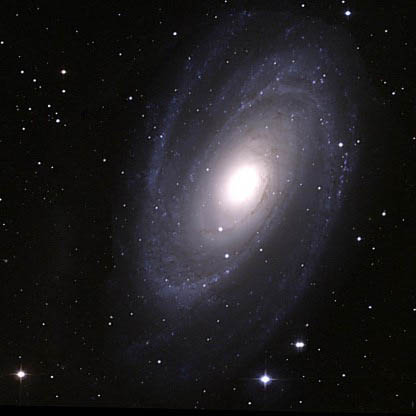Messier 81: (97, 18, 365, 394)
